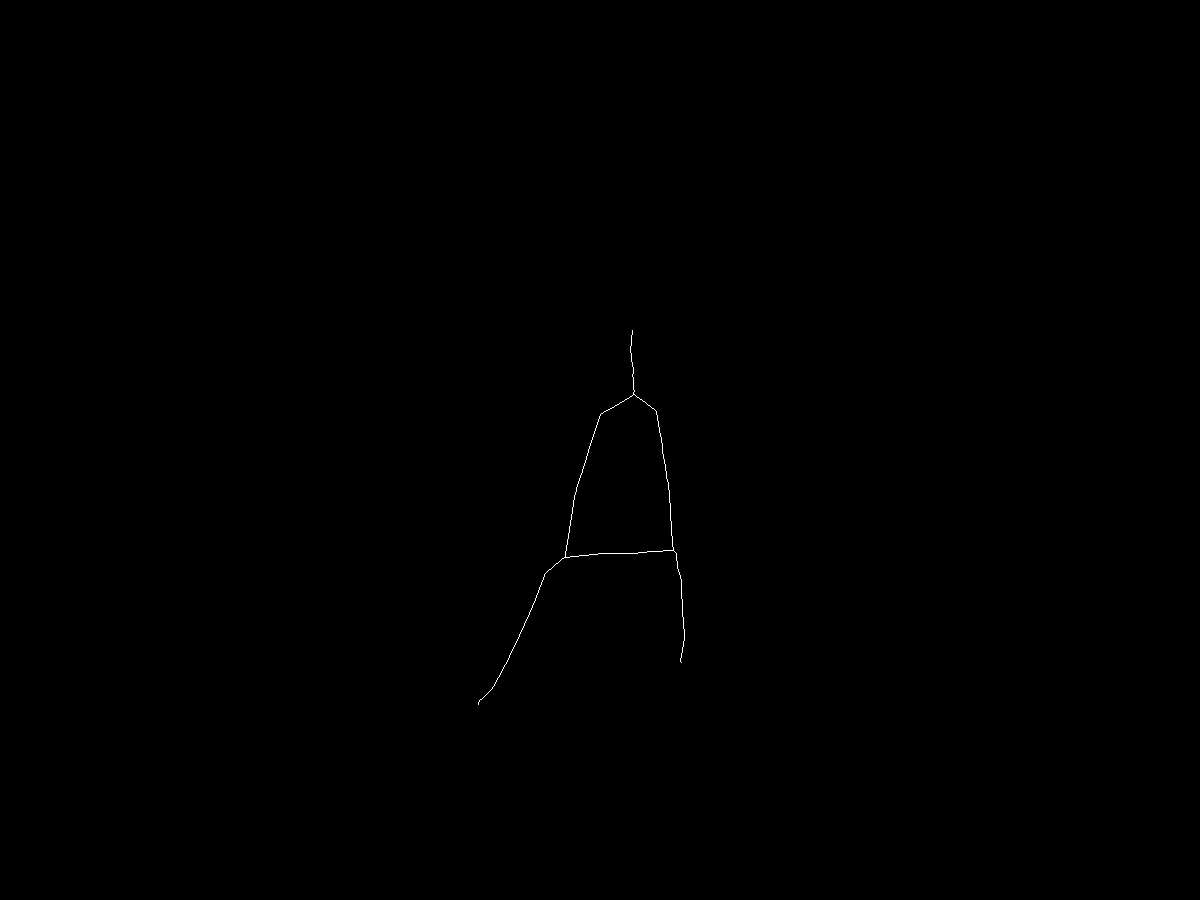dian1: (627, 390, 640, 403)
dian2: (556, 548, 576, 568)
dian3: (477, 689, 492, 704)
dian4: (670, 545, 684, 559)
dian5: (675, 652, 695, 672)
